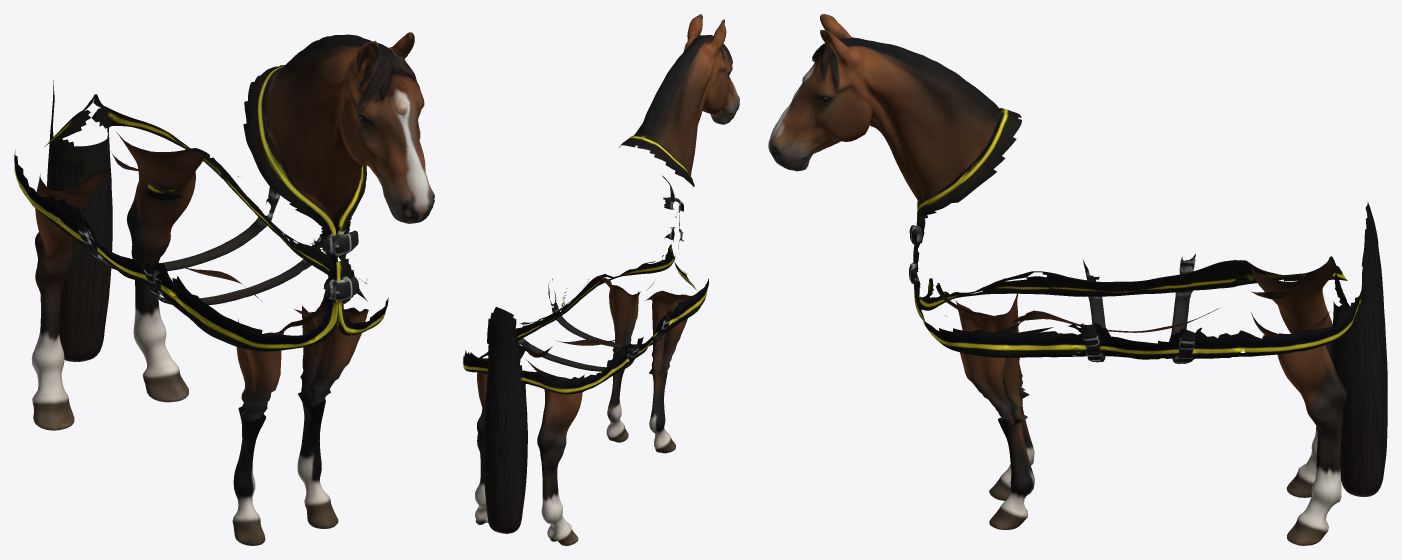
The model's file is horse-warm-rug.glb.
3 views of the same model, side by side, from view 1: azimuth 30°, elevation 25°; view 2: azimuth 150°, elevation 25°; view 3: azimuth 270°, elevation 25° (orthographic). The views are drawn at different scales.
Visible parts, largest first — view 1: tripo_node_5f3f9e45; view 2: tripo_node_5f3f9e45; view 3: tripo_node_5f3f9e45.
Part boxes in pixels (box(x1,y1,x2,y2)): tripo_node_5f3f9e45: box(14, 32, 434, 545); tripo_node_5f3f9e45: box(463, 14, 739, 545); tripo_node_5f3f9e45: box(768, 14, 1387, 545).
Size of the model in its own units: 0.7229 by 2 by 2.28.
1 material, 1 textured.
